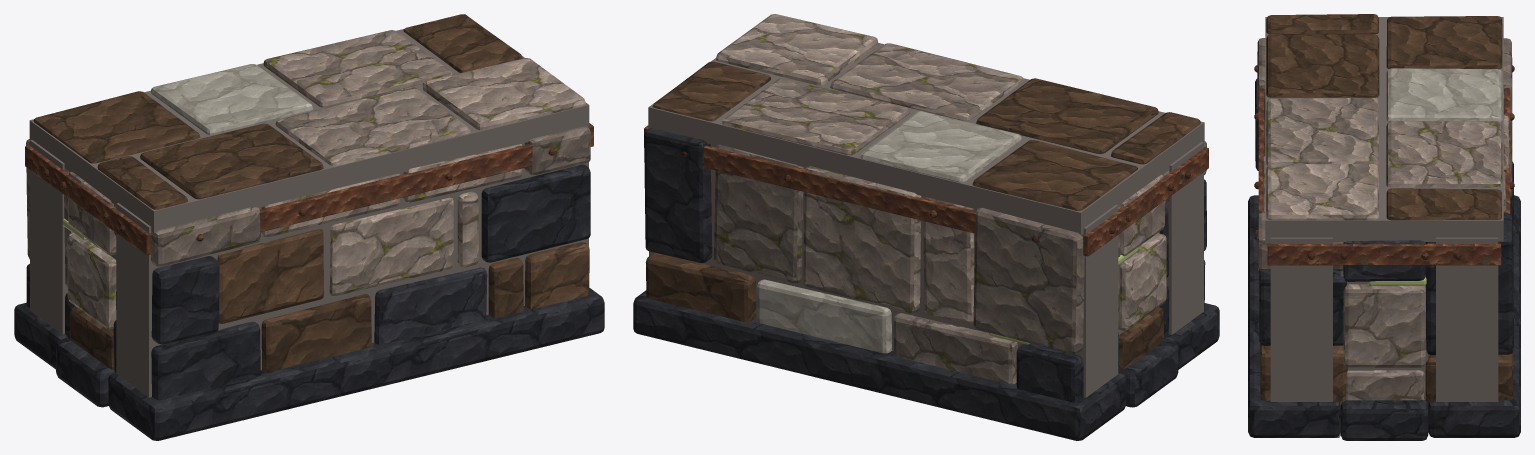
Rendered from foundation_half__cut_stone.glb.
3 views of the same model, side by side, from view 1: azimuth 30°, elevation 25°; view 2: azimuth 150°, elevation 25°; view 3: azimuth 270°, elevation 25° (orthographic). The views are drawn at different scales.
Visible parts, largest first — view 1: model; view 2: model; view 3: model.
Boxes of the visible parts, x1,y1,x2,y2 form: model: (14,14,604,440); model: (633,14,1219,440); model: (1248,14,1520,440).
Size of the model in its own units: 2.12 by 1.02 by 1.12.
Materials: 26 (10 with a texture image).
